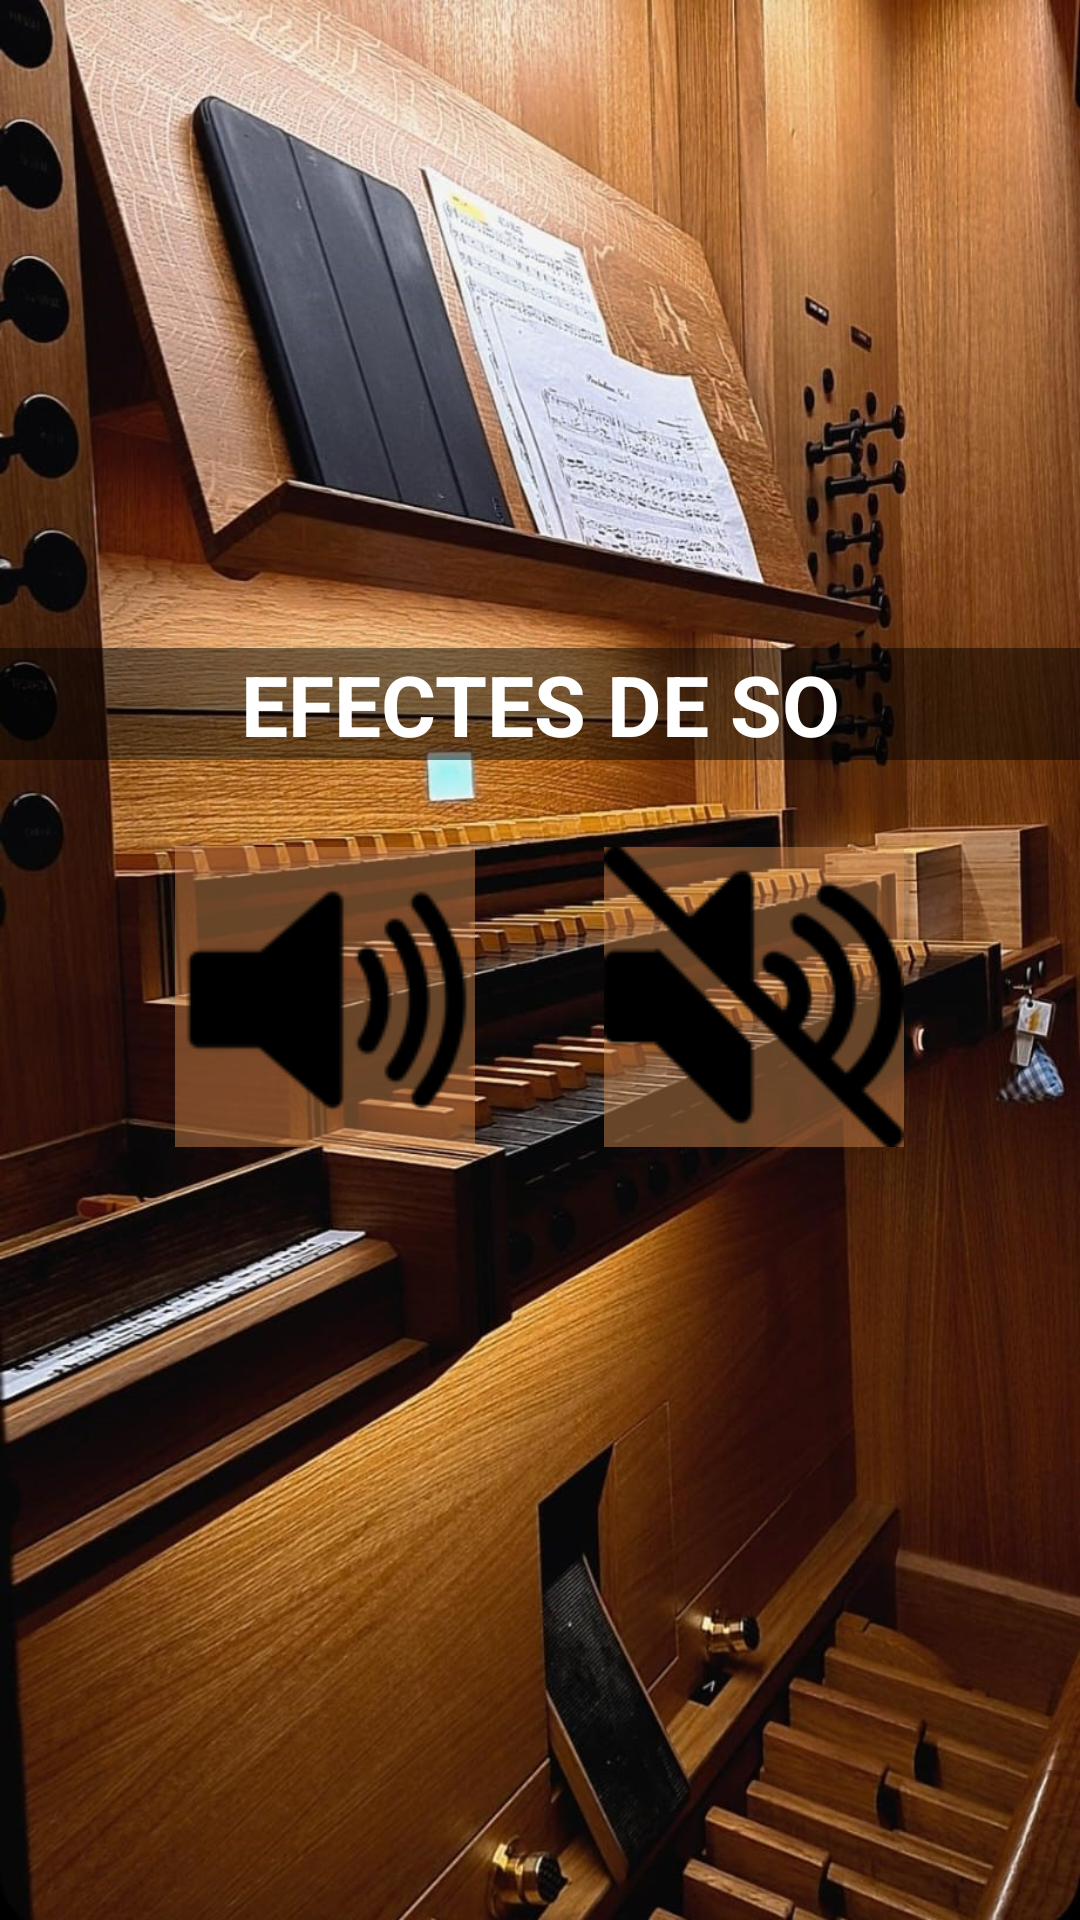

Named icons in this screenshot (1080w x 1920h) and their centers, point (x, y):
off: point (754, 997)
